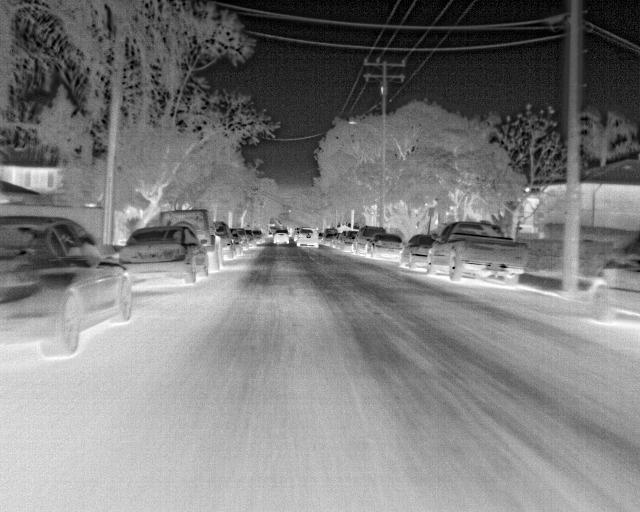bicycle: (0, 212, 132, 358), (427, 220, 528, 282), (121, 225, 208, 287), (589, 237, 639, 321), (157, 210, 221, 270), (399, 232, 434, 269), (350, 225, 388, 255), (210, 220, 239, 258), (367, 232, 402, 259), (293, 227, 317, 248), (229, 227, 248, 250), (341, 230, 359, 252), (272, 227, 291, 245), (321, 230, 338, 246), (242, 229, 256, 247), (252, 228, 266, 245)
